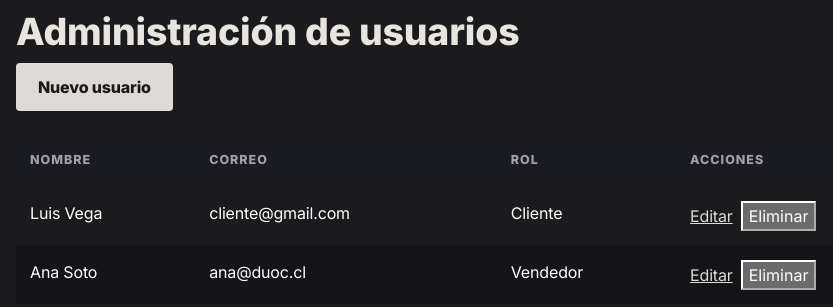
Test: AdminUsuarios › elimina un usuario después de confirmar y lo quita de la tabla
Expected: the text "Luis Vega" is shown, [16,186,195,245]
What coordinates should you click on to do the following:
click the button "Eliminar" in the row of "Luis Vega"
I would click on:
 (779, 216)
Its box is [741,200,816,230].
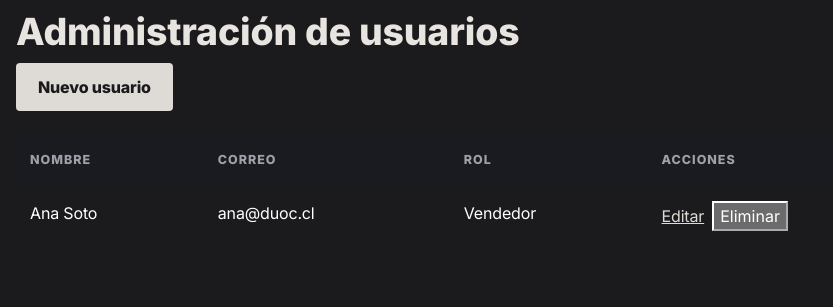
Expected: the text "Ana Soto" is shown, [16,186,204,245]
Now the text "Luis Vega" is gone
